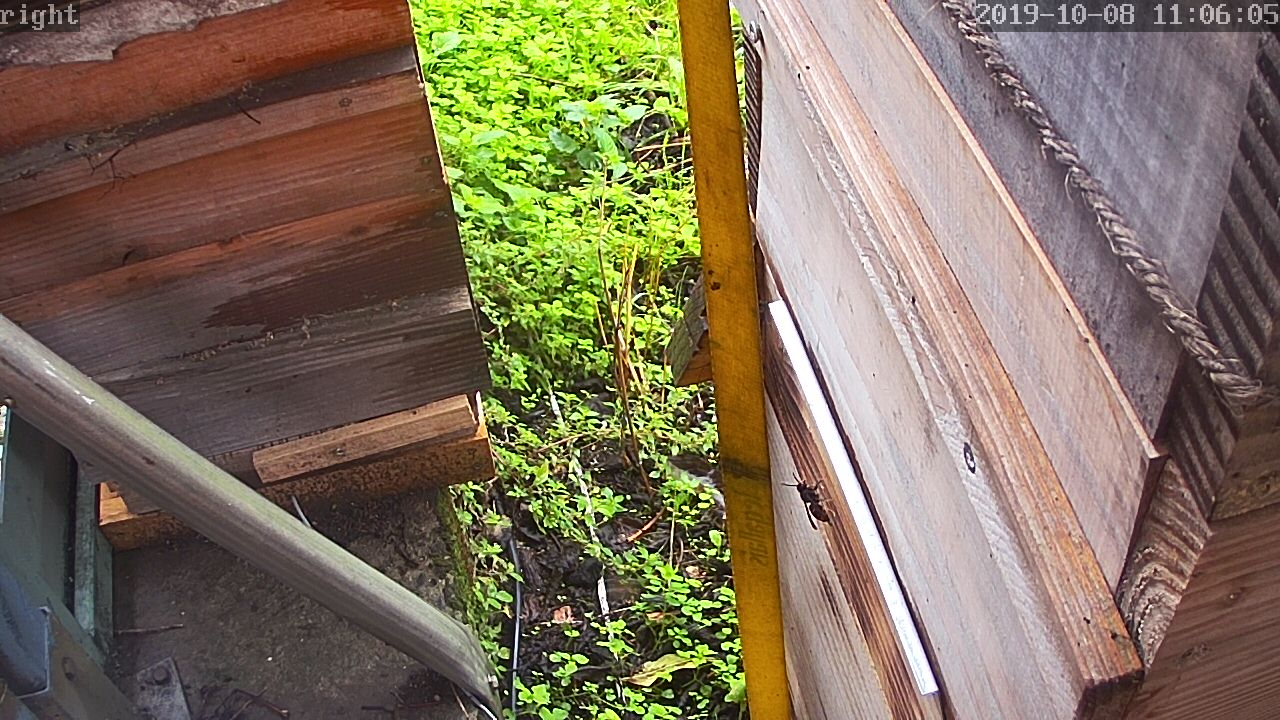hornet: (783, 469, 837, 530)
